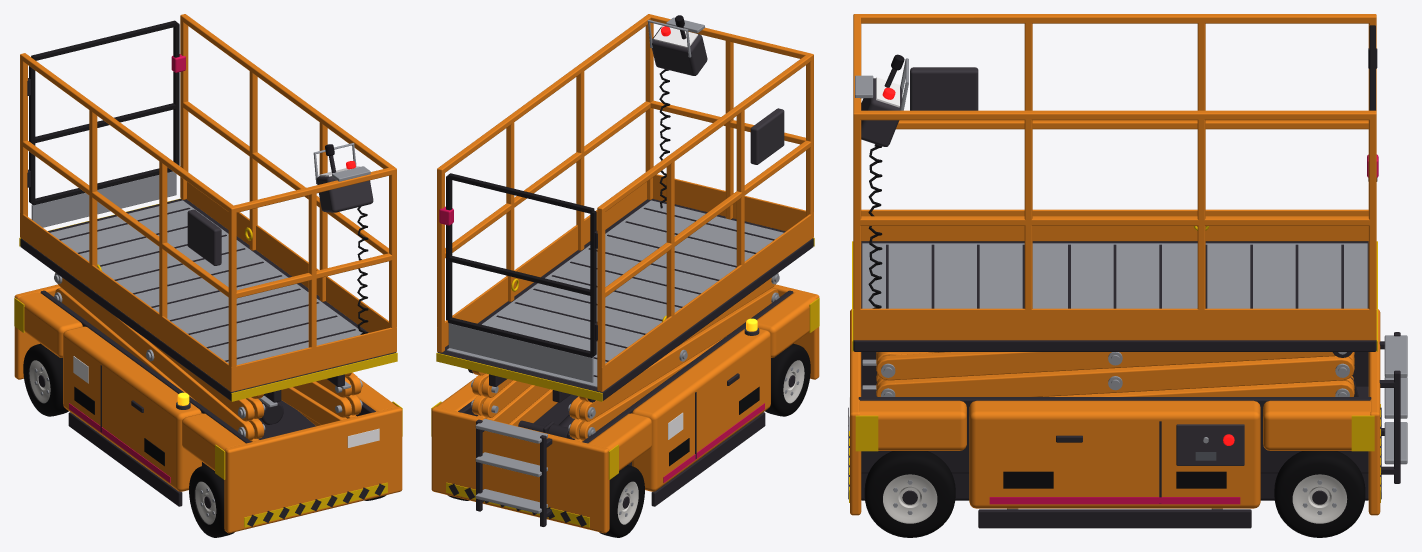
File: mewp.glb
The picture shows the model from 3 angles, left to right: view 1: azimuth 30°, elevation 25°; view 2: azimuth 150°, elevation 25°; view 3: azimuth 270°, elevation 25°; orthographic projection. The views are drawn at different scales.
Parts seen in each view (by area): view 1: deck, base, a_bar.004, wheel.001, wheel, a_bar.002, a_bar.006, b_bar.002, b_bar, wheel_rim.001, wheel_rim, b_bar.004; view 2: deck, base, a_bar.004, wheel, a_bar.002, wheel.001, b_bar.004, b_bar, b_bar.002, a_bar.006, wheel_rim, wheel_rim.001 (+1 smaller); view 3: deck, base, a_bar.004, a_bar.006, wheel.003, wheel.002, a_bar.002, wheel_rim.003, wheel_rim.002.
Part boxes in pixels (x1,y1,x2,y2): deck: (19,14,397,407); base: (14,284,402,533); a_bar.004: (54,273,362,440); wheel.001: (23,343,68,416); wheel: (189,465,234,537); a_bar.002: (54,287,356,418); a_bar.006: (148,340,362,421); b_bar.002: (249,381,351,438); b_bar: (250,387,346,441); wheel_rim.001: (29,360,50,403); wheel_rim: (195,481,216,524); b_bar.004: (246,377,351,418); deck: (436,14,814,402); base: (431,284,819,533); a_bar.004: (471,288,779,421); wheel: (765,343,810,416); a_bar.002: (471,336,726,440); wheel.001: (599,465,644,537); b_bar.004: (481,380,584,439); b_bar: (509,389,574,439); b_bar.002: (487,385,582,441); a_bar.006: (472,273,779,401); wheel_rim: (783,360,804,403); wheel_rim.001: (617,481,638,524); deck: (852,14,1378,357); base: (848,309,1407,528); a_bar.004: (876,356,1354,396); a_bar.006: (876,352,1335,380); wheel.003: (1274,451,1365,537); wheel.002: (864,451,955,537); a_bar.002: (876,352,1354,396); wheel_rim.003: (1292,474,1347,523); wheel_rim.002: (883,474,937,523).
Size of the model in its own units: 1.15 by 2.2 by 2.46.
